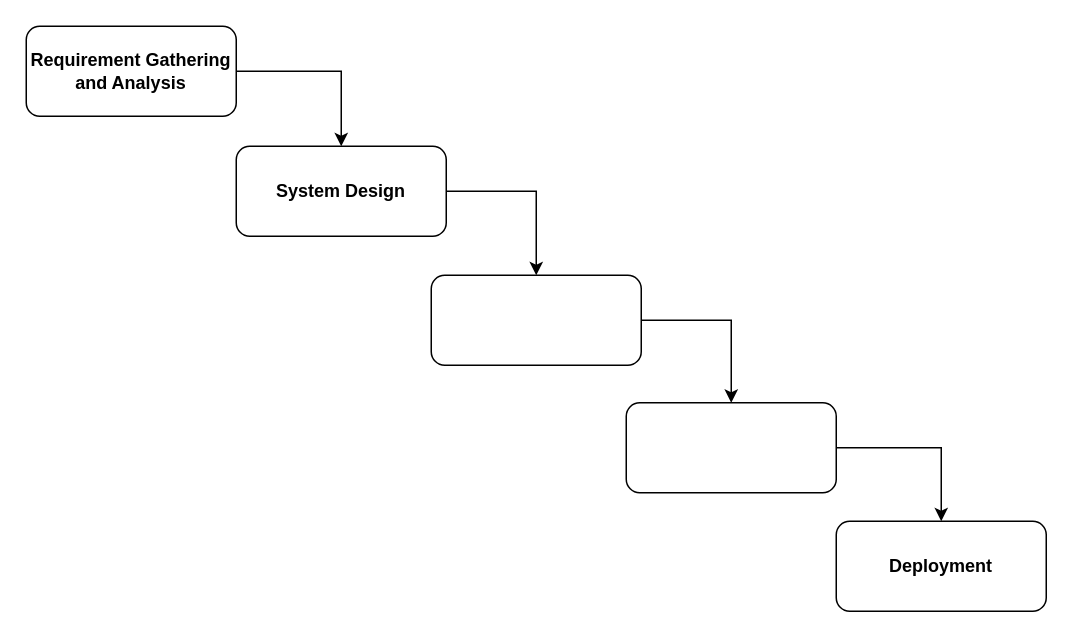
This 1073x638 diagram has some shape labels left out. The box of each missing label's shape, as (x1, y1, x2, y2) in pixels:
Implementation: (430, 274, 641, 365)
Testing: (625, 401, 836, 493)
